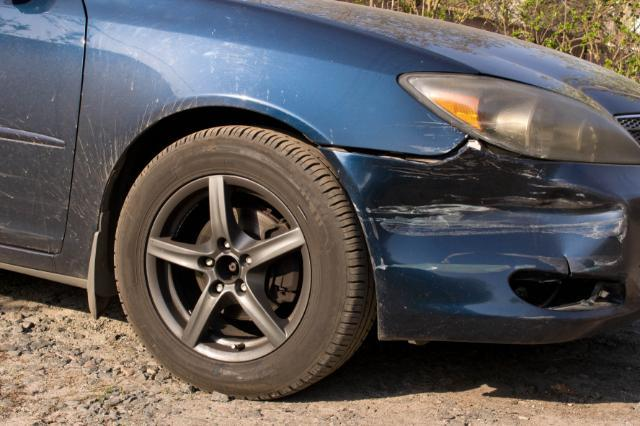Bumper: (358, 151, 640, 337)
